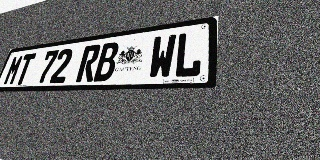2: (49, 48, 74, 83)
7: (35, 50, 59, 84)
B: (93, 41, 120, 82)
L: (173, 30, 204, 78)
M: (2, 55, 25, 85)
R: (75, 44, 102, 82)
T: (14, 53, 36, 85)
W: (147, 34, 177, 79)
